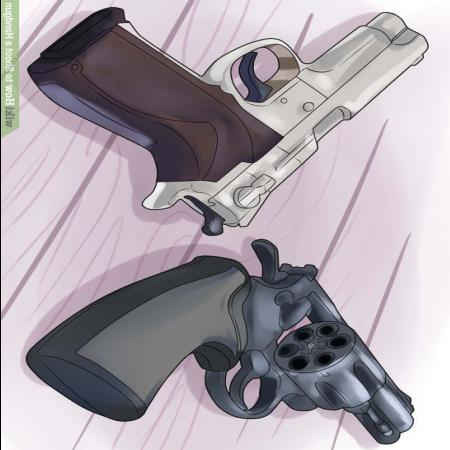Pistol: (22, 6, 426, 236), (17, 231, 414, 449)
